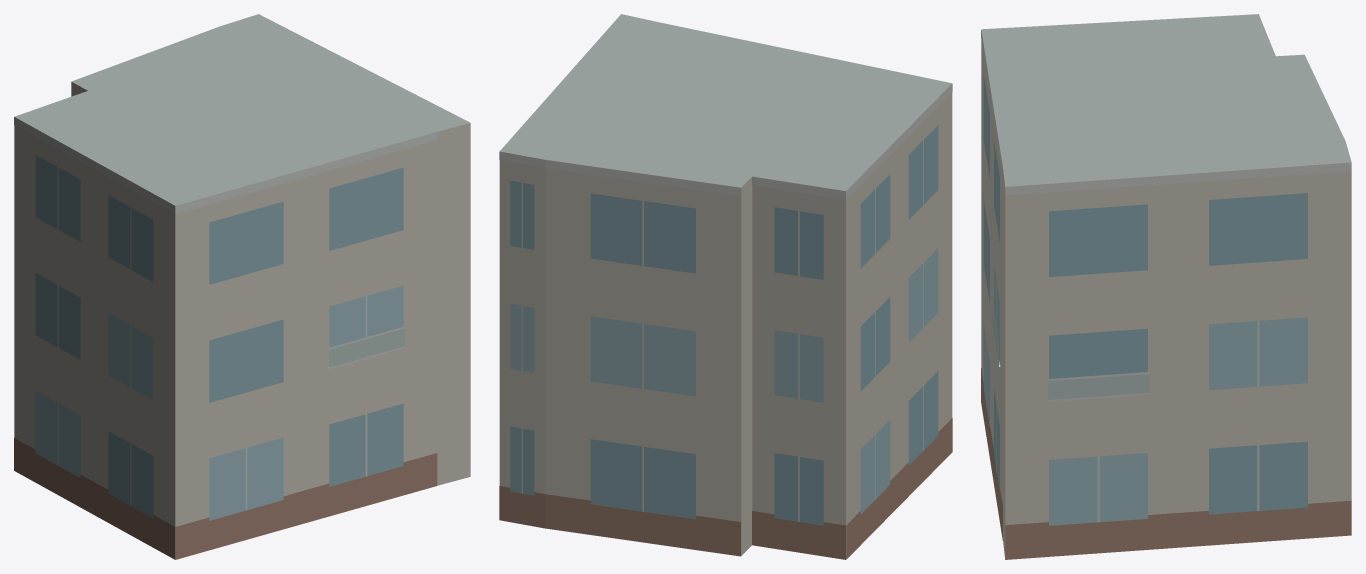
File: survey-upis-32916591.glb
3 renders of one model, left to right at view 1: azimuth 30°, elevation 25°; view 2: azimuth 150°, elevation 25°; view 3: azimuth 270°, elevation 25°, orthographic. The views are drawn at different scales.
Parts seen in each view (by area): view 1: survey-upis-32916591.tmp; view 2: survey-upis-32916591.tmp; view 3: survey-upis-32916591.tmp.
Part boxes in pixels (x1,y1,x2,y2): survey-upis-32916591.tmp: (14,14,470,559); survey-upis-32916591.tmp: (499,14,952,559); survey-upis-32916591.tmp: (981,14,1351,559).
Bounding box in the file's own units: 10.45 × 10.5 × 9.46.
